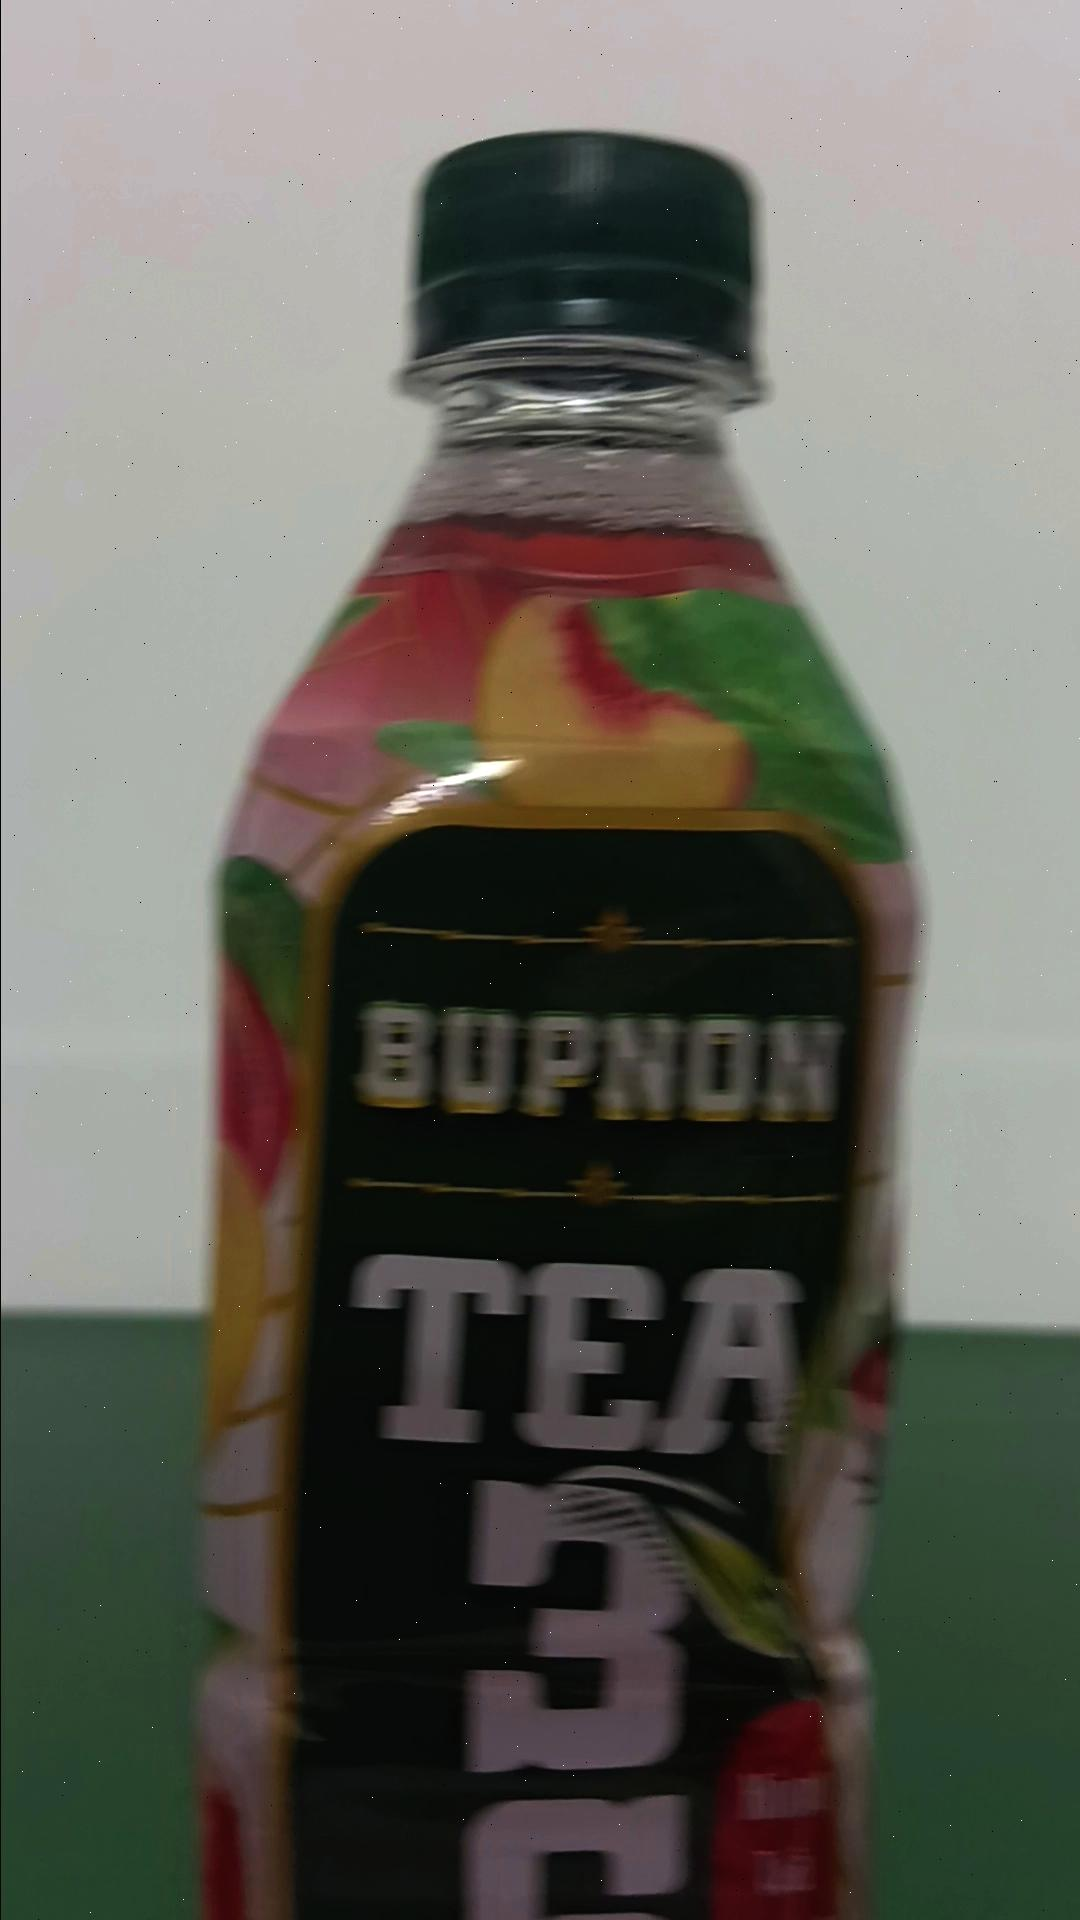loi meo sp: (190, 127, 922, 1913)
